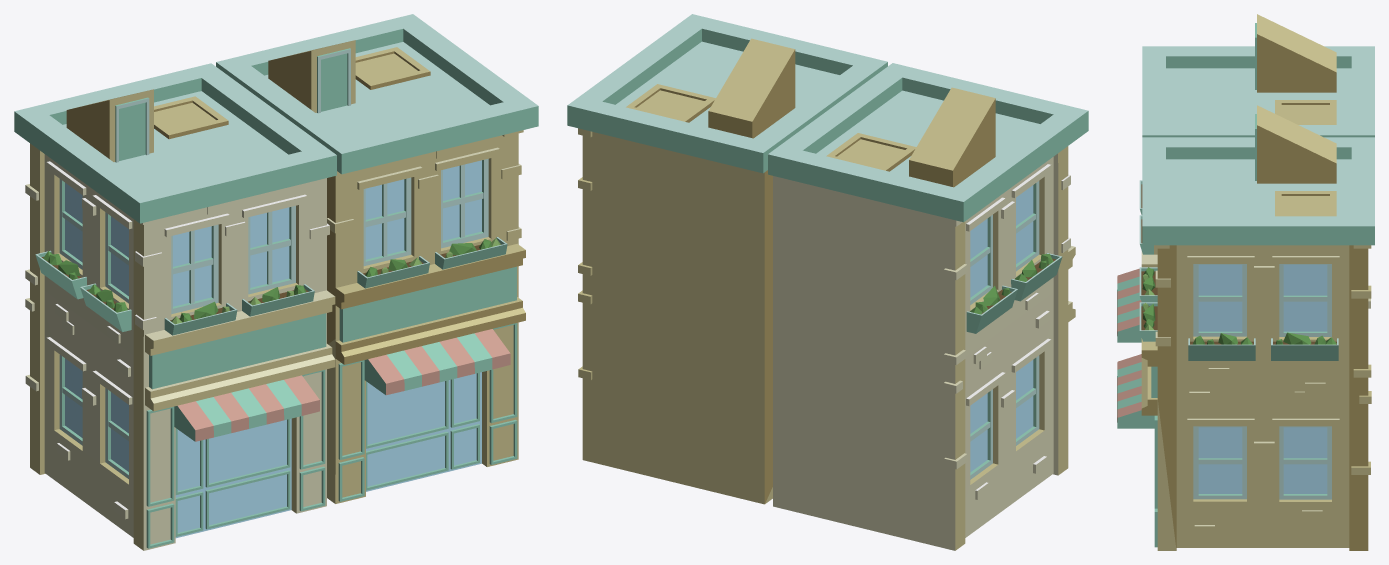
File: house_small_2_008.fbx
3 renders of one model, left to right at view 1: azimuth 30°, elevation 25°; view 2: azimuth 150°, elevation 25°; view 3: azimuth 270°, elevation 25°, orthographic. The views are drawn at different scales.
Visible parts, largest first — view 1: house_small_2_008; view 2: house_small_2_008; view 3: house_small_2_008.
Boxes of the visible parts, x1=… form: house_small_2_008: x1=14, y1=14, x2=538, y2=550; house_small_2_008: x1=567, y1=14, x2=1088, y2=550; house_small_2_008: x1=1117, y1=14, x2=1374, y2=550.
Size of the model in its own units: 731 by 713 by 442.
